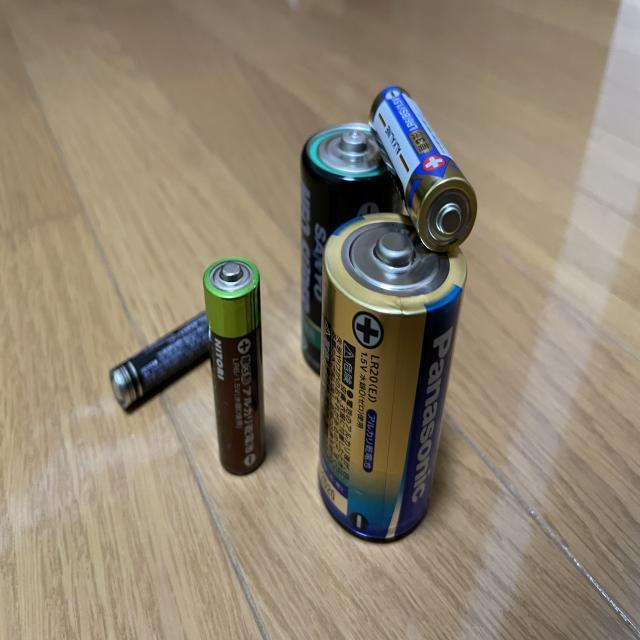battery: (313, 210, 471, 546), (296, 117, 417, 373), (368, 86, 482, 255), (200, 254, 268, 480), (107, 310, 225, 409)
